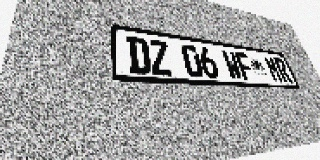0: (180, 44, 205, 78)
6: (197, 46, 220, 79)
D: (126, 36, 152, 75)
F: (234, 52, 256, 81)
M: (263, 56, 284, 82)
R: (273, 57, 293, 83)
W: (221, 50, 244, 80)
Z: (148, 39, 173, 76)
